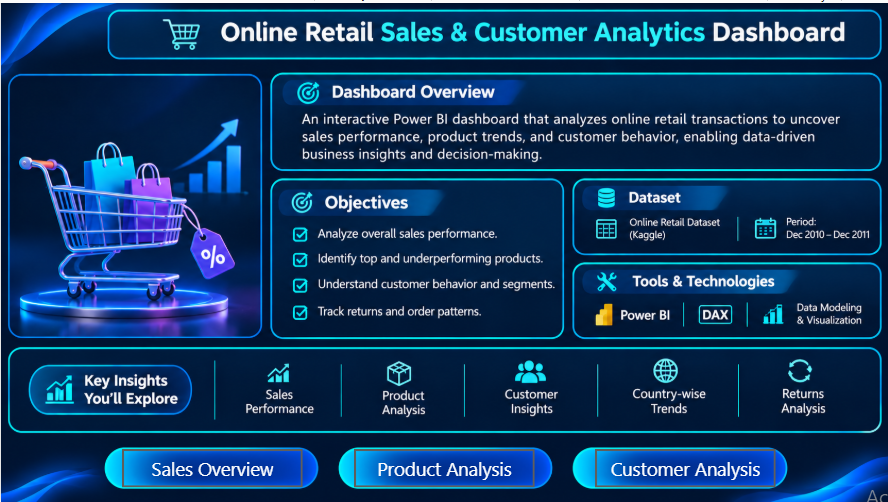

The page's visual inventory and layout, read from the dashboard file:
{"tool":"powerbi","page":{"name":"Page 0","canvas":[1280,720],"ordinal":0},"visuals":[{"type":"actionButton","title":"Sales Overview","box":[174.7,641.7,260.4,55.4],"z":3},{"type":"actionButton","title":"Sales Overview","box":[509,641.7,260.4,55.4],"z":4},{"type":"actionButton","title":"Sales Overview","box":[855,641.7,260.4,55.4],"z":5}]}

Visuals, with their boxes in screenshot pixels (x1, y1, x2, y2), scaled from the page's 1280x720 canvas onto the 888x502 screenshot:
"Sales Overview" actionButton: bbox=[121, 447, 302, 486]
"Sales Overview" actionButton: bbox=[353, 447, 534, 486]
"Sales Overview" actionButton: bbox=[593, 447, 774, 486]
